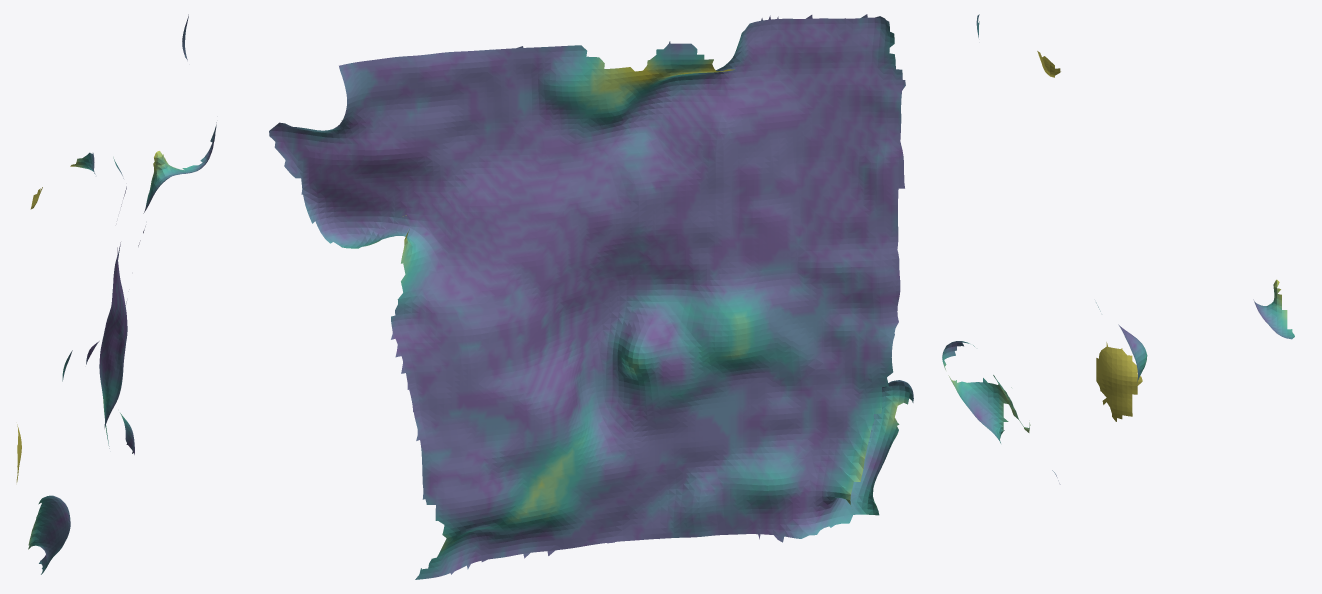
Rendered from crop1119_gap.glb.
3 views of the same model, side by side, from view 1: azimuth 30°, elevation 25°; view 2: azimuth 150°, elevation 25°; view 3: azimuth 270°, elevation 25° (orthographic). The views are drawn at different scales.
Parts seen in each view (by area): view 1: world; view 2: world; view 3: world.
Boxes of the visible parts, x1=… form: world: x1=16, y1=14, x2=216, y2=574; world: x1=269, y1=14, x2=913, y2=579; world: x1=942, y1=14, x2=1294, y2=484.
Bounding box in the file's own units: 1423 × 1535 × 1134.
